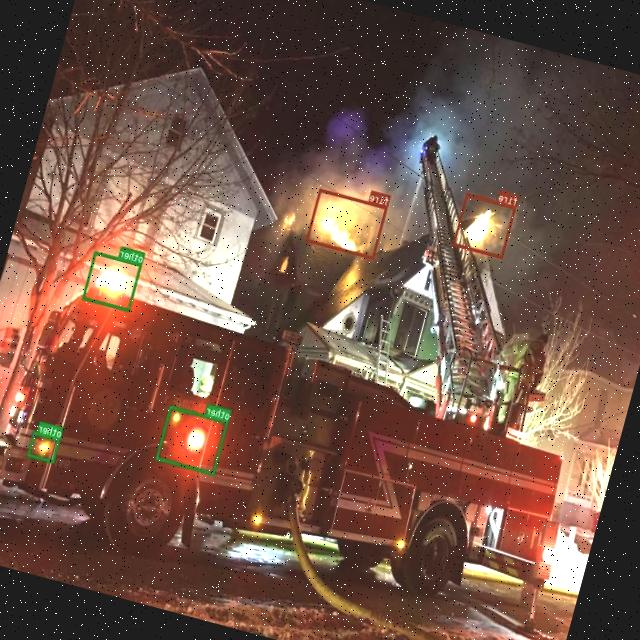fire: (306, 188, 388, 260), (452, 192, 516, 258)
